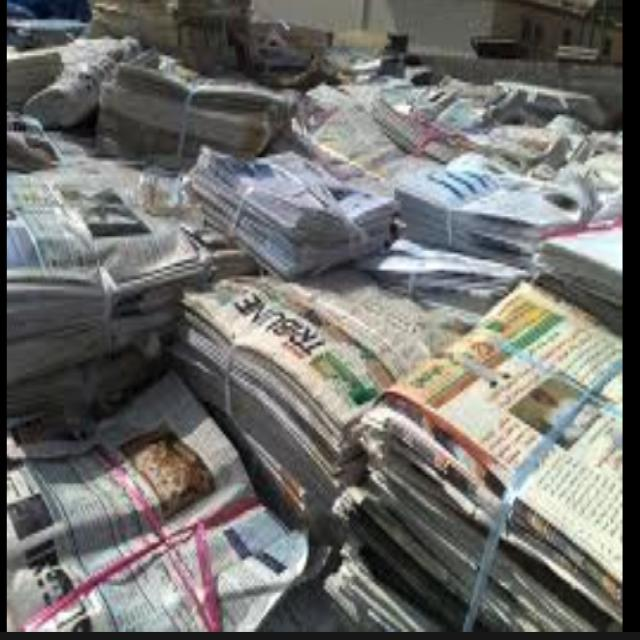Koran: (6, 0, 622, 631)
